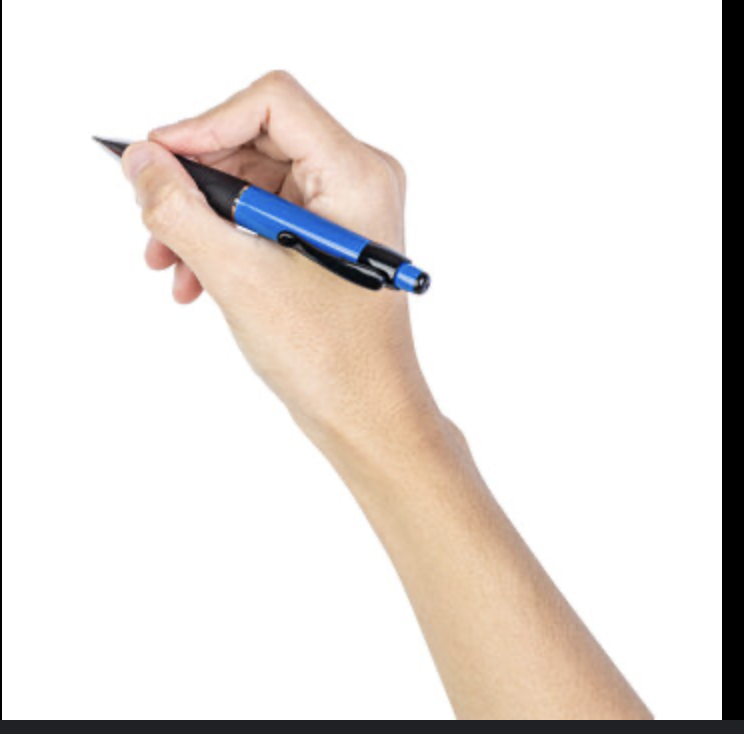pen: (94, 132, 426, 289)
